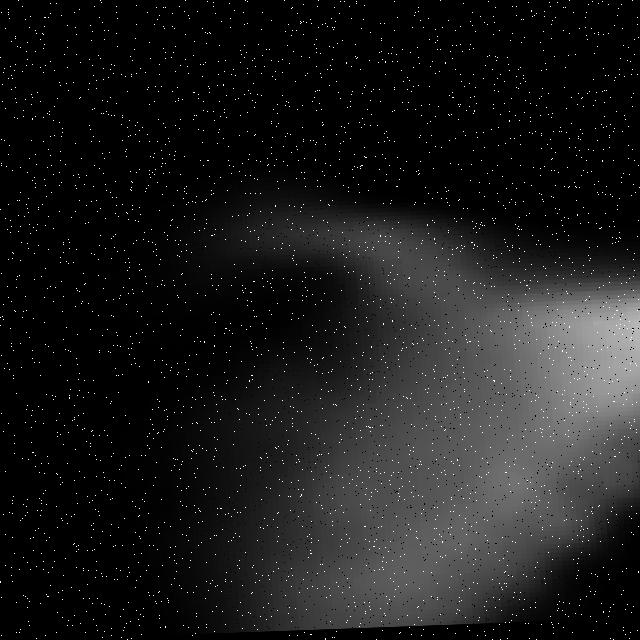person: (11, 181, 640, 640)
